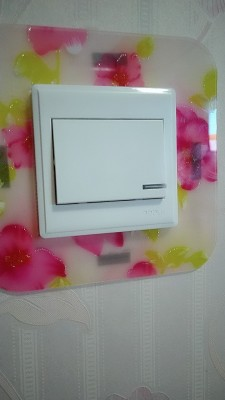switch: (49, 112, 173, 205)
